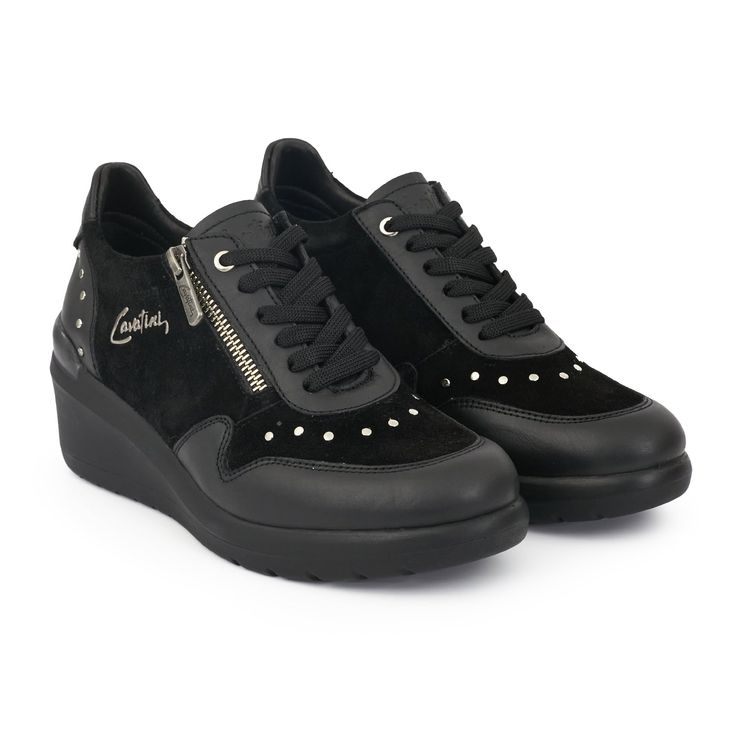gamuza: (85, 164, 647, 472)
